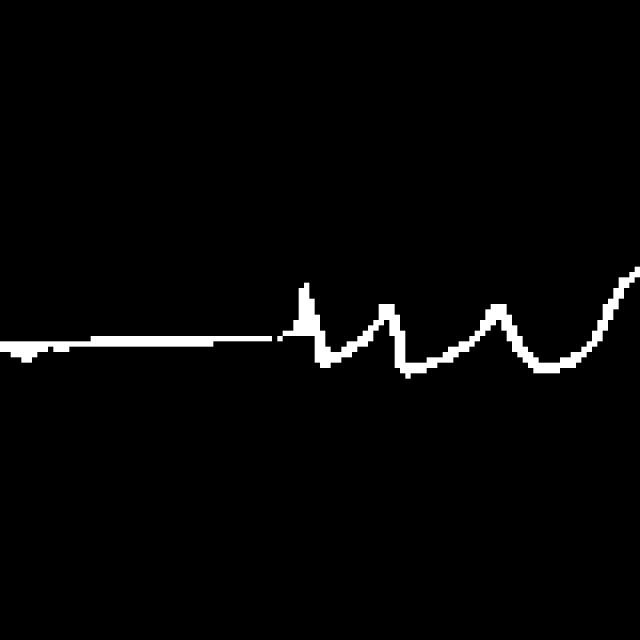resistor: (272, 256, 640, 389)
